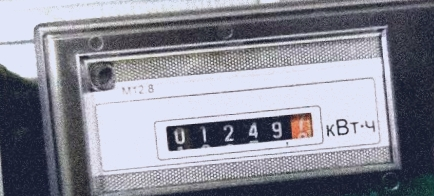0: (173, 124, 187, 145)
1: (198, 123, 209, 142)
2: (222, 122, 236, 142)
4: (246, 119, 258, 139)
7: (294, 112, 307, 131)
9: (269, 118, 284, 140)
screen: (146, 104, 323, 158)
